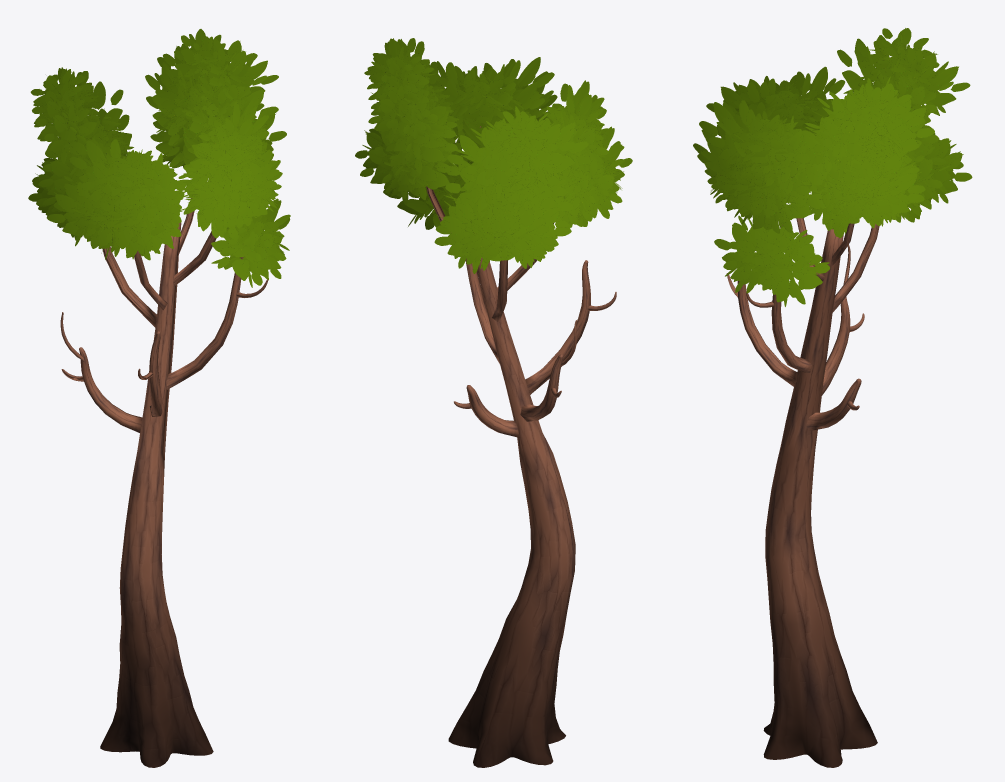
File: common_tree_4.glb
The picture shows the model from 3 angles, left to right: view 1: azimuth 30°, elevation 25°; view 2: azimuth 150°, elevation 25°; view 3: azimuth 270°, elevation 25°; orthographic projection. The views are drawn at different scales.
Visible parts, largest first — view 1: CommonTree_4; view 2: CommonTree_4; view 3: CommonTree_4.
Boxes of the visible parts, box(x1,y1,x2,y2) form: CommonTree_4: box(28, 29, 290, 767); CommonTree_4: box(355, 38, 632, 767); CommonTree_4: box(693, 28, 972, 767).
Size of the model in its own units: 3.83 by 9.44 by 3.76.
Materials: 2 (2 with a texture image).
